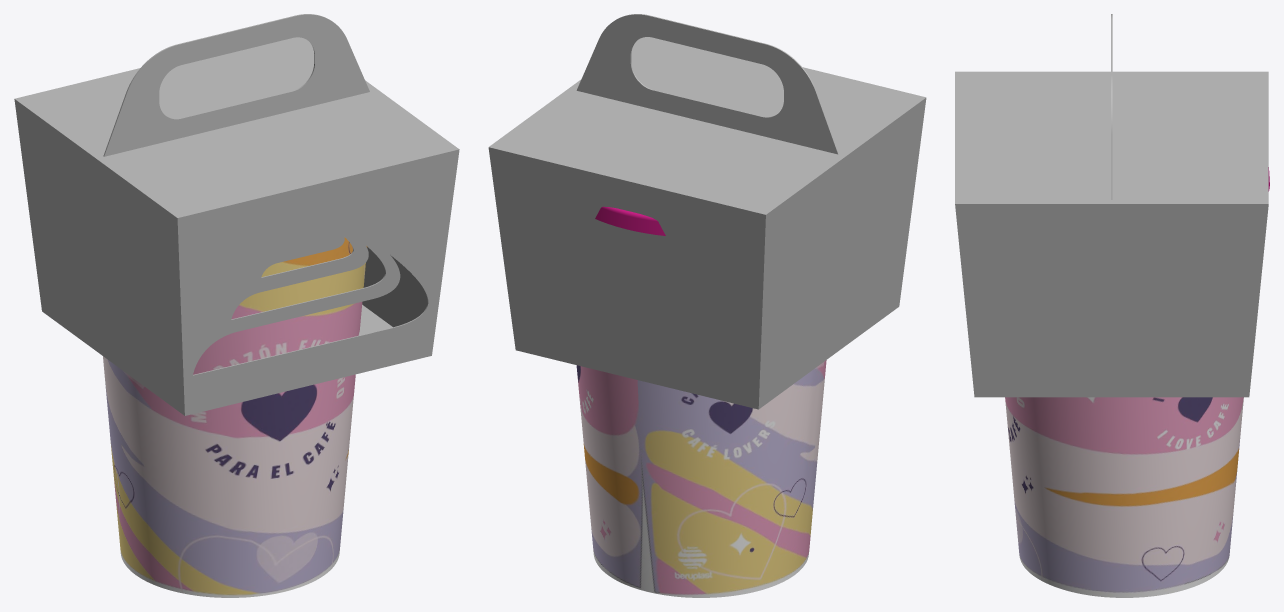
File: Caja001.glb
3 renders of one model, left to right at view 1: azimuth 30°, elevation 25°; view 2: azimuth 150°, elevation 25°; view 3: azimuth 270°, elevation 25°, orthographic. The views are drawn at different scales.
Parts seen in each view (by area): view 1: object_2_n3d, object_1%2E002_n3d, object_1_n3d; view 2: object_2_n3d, object_1%2E002_n3d, object_1_n3d, tapa pico; view 3: object_2_n3d, object_1%2E002_n3d.
Part boxes in pixels (<box>): object_2_n3d: <box>14,37,459,415</box>; object_1%2E002_n3d: <box>103,237,367,597</box>; object_1_n3d: <box>103,14,369,156</box>; object_2_n3d: <box>488,37,926,409</box>; object_1%2E002_n3d: <box>576,360,826,597</box>; object_1_n3d: <box>576,14,838,154</box>; tapa pico: <box>595,206,665,235</box>; object_2_n3d: <box>955,71,1268,397</box>; object_1%2E002_n3d: <box>1005,397,1243,597</box>.
Size of the model in its own units: 1.27 by 2.26 by 1.27.
Materials: 4 (1 with a texture image).
